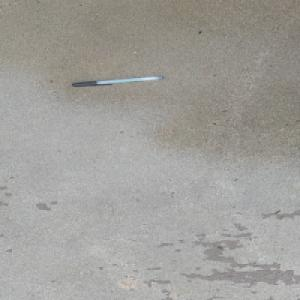Pen: (70, 75, 164, 88)
